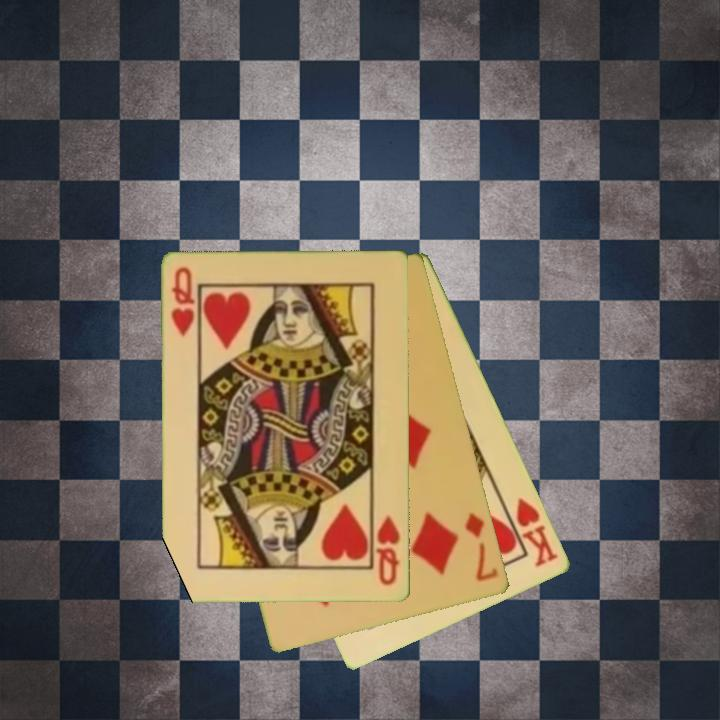7d: (461, 509, 502, 585)
Kh: (501, 494, 562, 570)
Qh: (373, 513, 404, 589), (168, 264, 198, 340)
